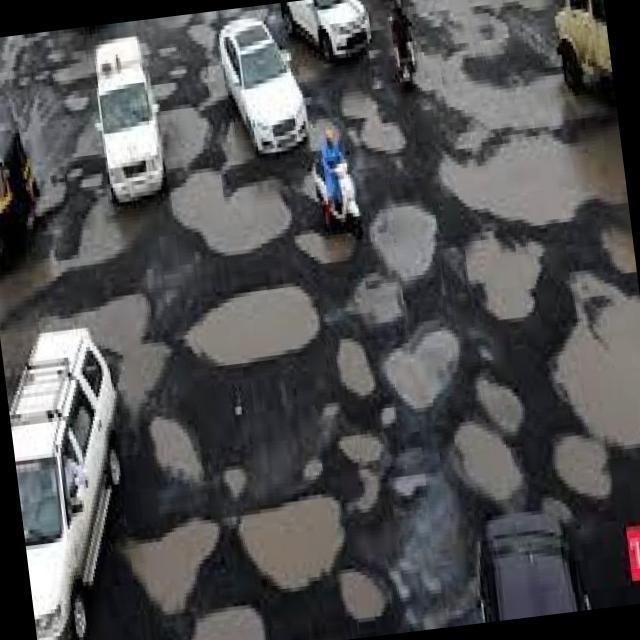pothole: (415, 0, 575, 153), (442, 134, 625, 224), (2, 34, 89, 217), (554, 272, 640, 446), (51, 294, 171, 413), (185, 286, 320, 366), (170, 171, 291, 255), (239, 496, 342, 591), (122, 519, 220, 614), (466, 231, 544, 320), (382, 322, 460, 409), (402, 1, 509, 58), (454, 421, 522, 501), (369, 205, 438, 282), (60, 195, 128, 271), (0, 250, 62, 323), (341, 91, 406, 151), (554, 435, 611, 498), (338, 434, 384, 512), (149, 418, 204, 482), (159, 108, 209, 170), (352, 272, 404, 326), (475, 378, 524, 434), (191, 605, 266, 639), (339, 571, 385, 621), (336, 339, 375, 396), (295, 231, 356, 263), (222, 120, 256, 167), (601, 228, 636, 273), (54, 51, 95, 85), (339, 434, 384, 464), (199, 64, 228, 109), (319, 402, 341, 448), (392, 474, 428, 496), (188, 24, 216, 52), (222, 468, 248, 498), (309, 119, 332, 152), (302, 458, 322, 481), (156, 16, 191, 29), (298, 66, 319, 83), (320, 61, 334, 69)
